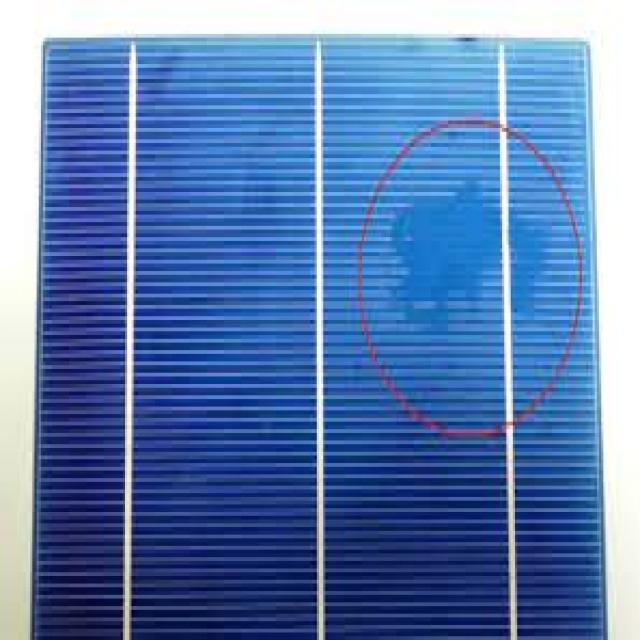faulty: (39, 63, 610, 640)
